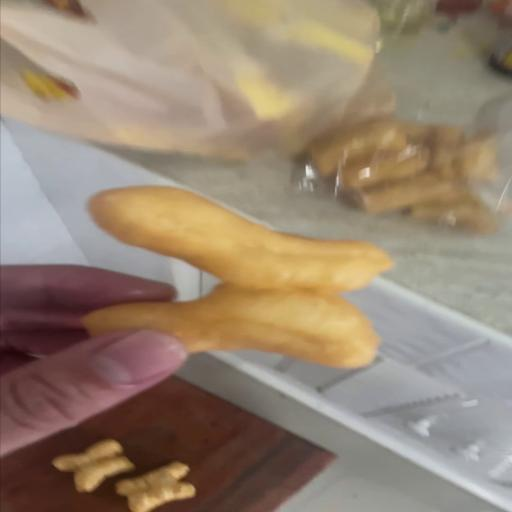street_golden_good: (82, 186, 392, 368)
